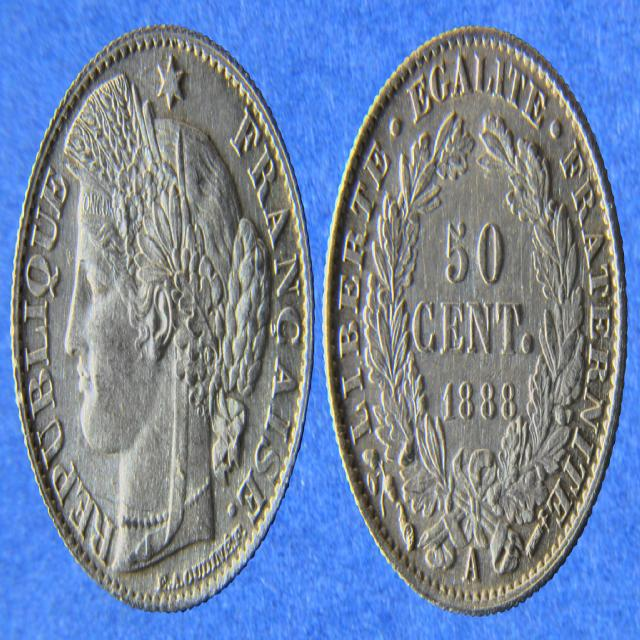Coin: (7, 18, 314, 612), (320, 21, 627, 610)
